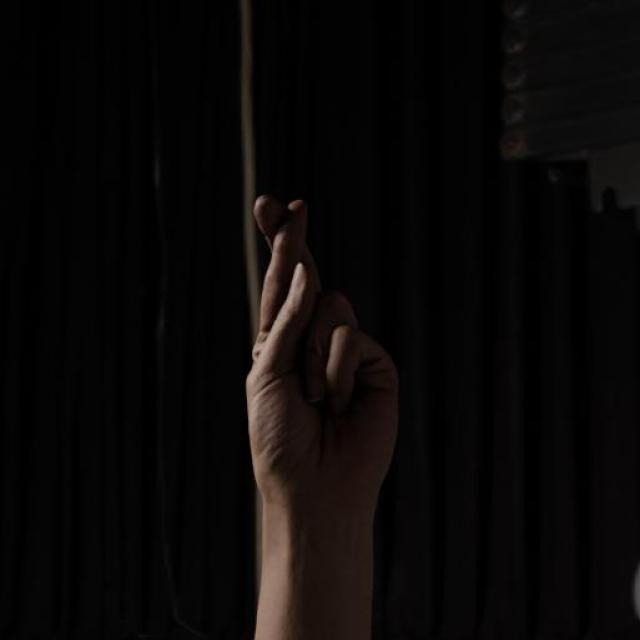R: (238, 187, 404, 531)
